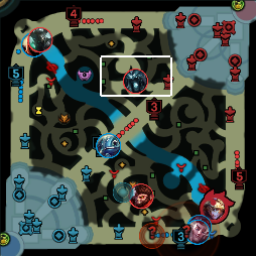ezreal: (202, 194, 226, 220)
fizz: (95, 131, 121, 157)
karthus: (122, 68, 146, 92)
monkeyking: (127, 182, 153, 207)
mordekaiser: (27, 27, 51, 51)
rakan: (184, 219, 208, 244)
zed: (22, 33, 44, 56)
